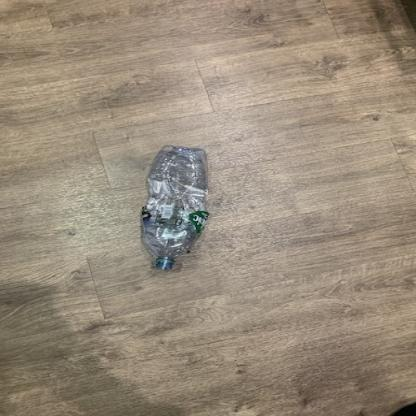trash: (138, 144, 211, 274)
